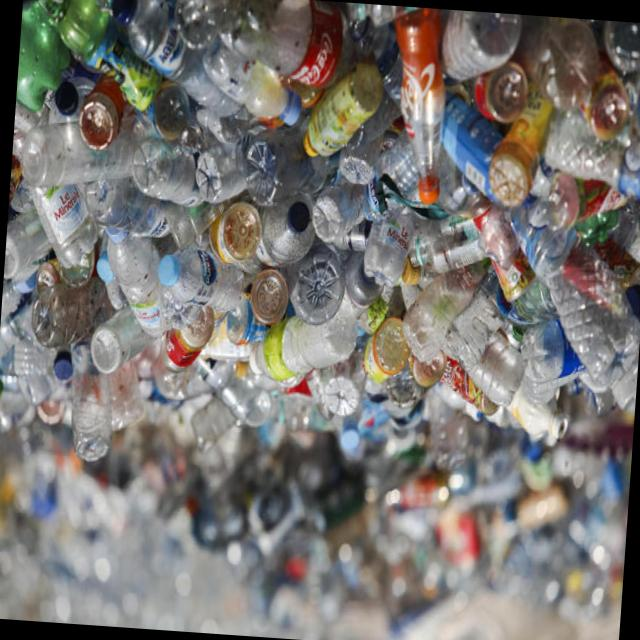plastic_bottle: (0, 4, 640, 490), (199, 1, 370, 103), (381, 10, 457, 216), (61, 326, 118, 477)
